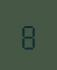eight: (19, 20, 36, 49)
